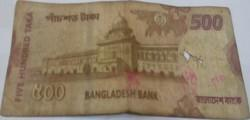500 taka: (17, 3, 244, 113)
